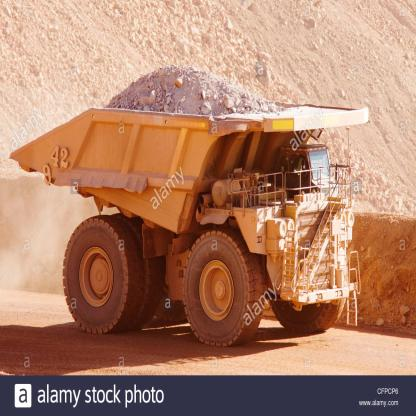dump_truck: (13, 62, 363, 341)
